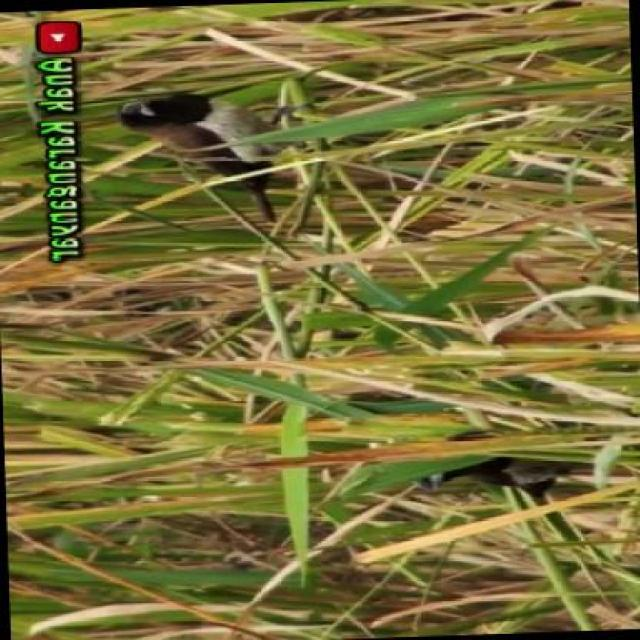Bird: (116, 91, 283, 225), (412, 452, 574, 492)
